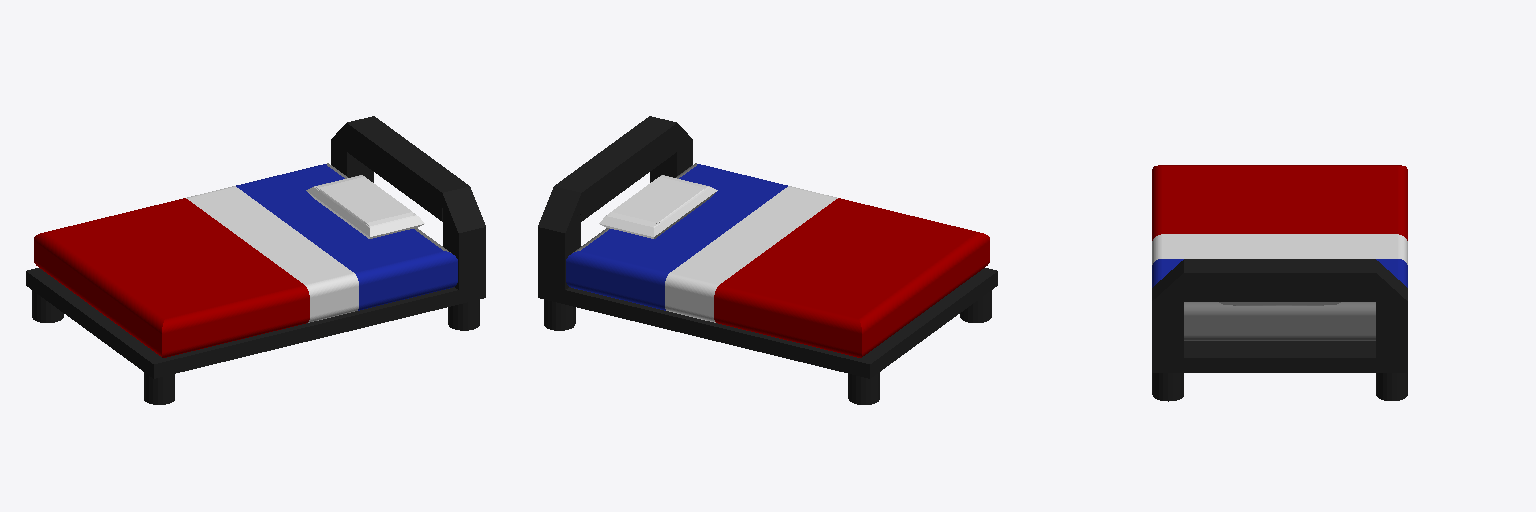
Rendered from Cama.obj.
3 views of the same model, side by side, from view 1: azimuth 30°, elevation 25°; view 2: azimuth 150°, elevation 25°; view 3: azimuth 270°, elevation 25° (orthographic).
Visible parts, largest first — view 1: pCube4, pCube6, pCube5; view 2: pCube4, pCube6, pCube5; view 3: pCube4, pCube6.
Boxes of the visible parts, x1,y1,x2,y2 form: pCube4: [34, 163, 457, 357]; pCube6: [26, 116, 485, 404]; pCube5: [306, 175, 424, 238]; pCube4: [566, 163, 989, 357]; pCube6: [538, 116, 997, 404]; pCube5: [599, 175, 717, 238]; pCube4: [1152, 165, 1407, 340]; pCube6: [1152, 259, 1407, 401].
Size of the model in its own units: 3 by 1.11 by 2.